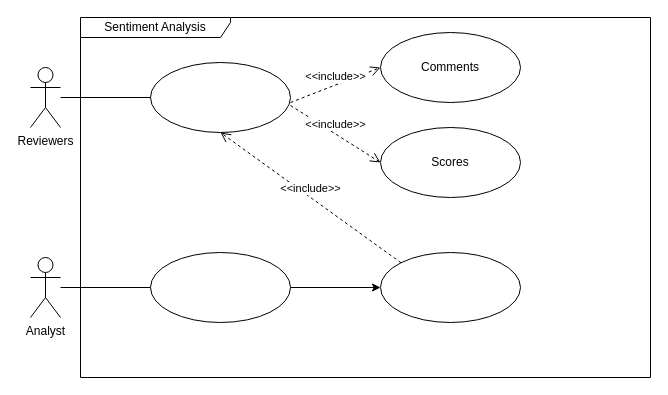
The diagram is 668 pixels wide and 395 high, and some of its shapes have lost their labels. Here are the shapes that lost their labels. From the top down, the centre of each, then its label:
At point (220, 97): "Reviews".
At point (220, 287): "Analyse all reviews".
At point (450, 287): "HashTable/Word value storer".
